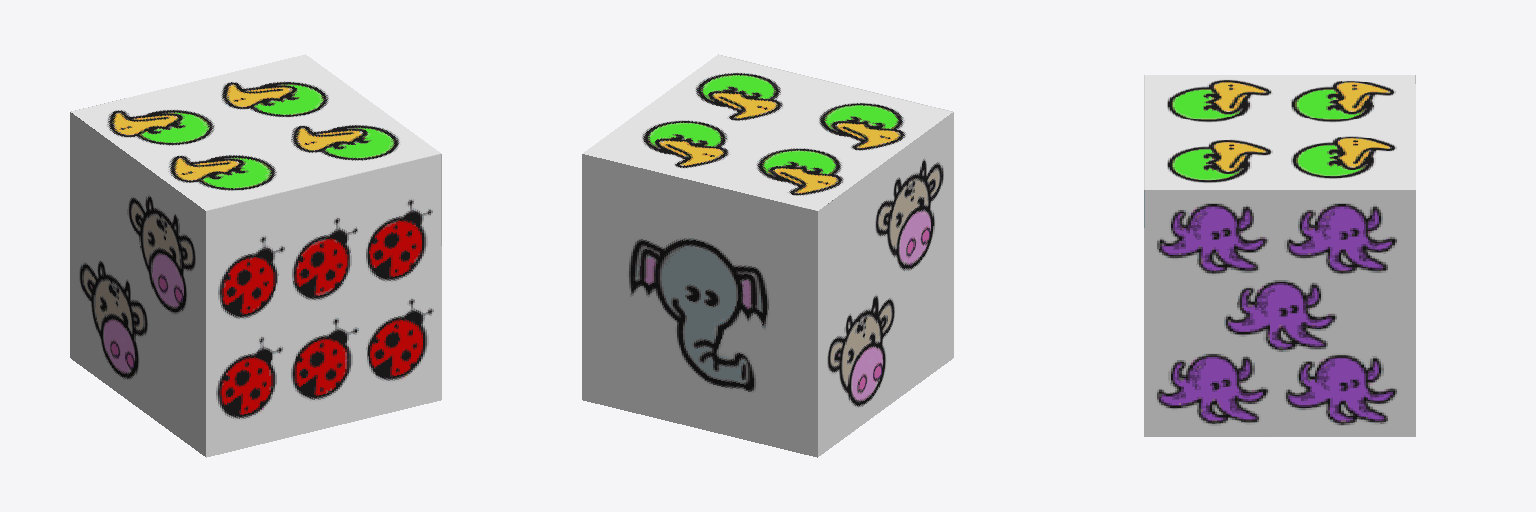
3 renders of one model, left to right at view 1: azimuth 30°, elevation 25°; view 2: azimuth 150°, elevation 25°; view 3: azimuth 270°, elevation 25°, orthographic.
Visible parts, largest first — view 1: Box002; view 2: Box002; view 3: Box002.
Part boxes in pixels (left/top/right/bottom): Box002: left=70, top=54, right=441, bottom=457; Box002: left=582, top=54, right=953, bottom=457; Box002: left=1144, top=75, right=1415, bottom=436.
Size of the model in its own units: 10 by 10 by 10.
Materials: 1 (1 with a texture image).